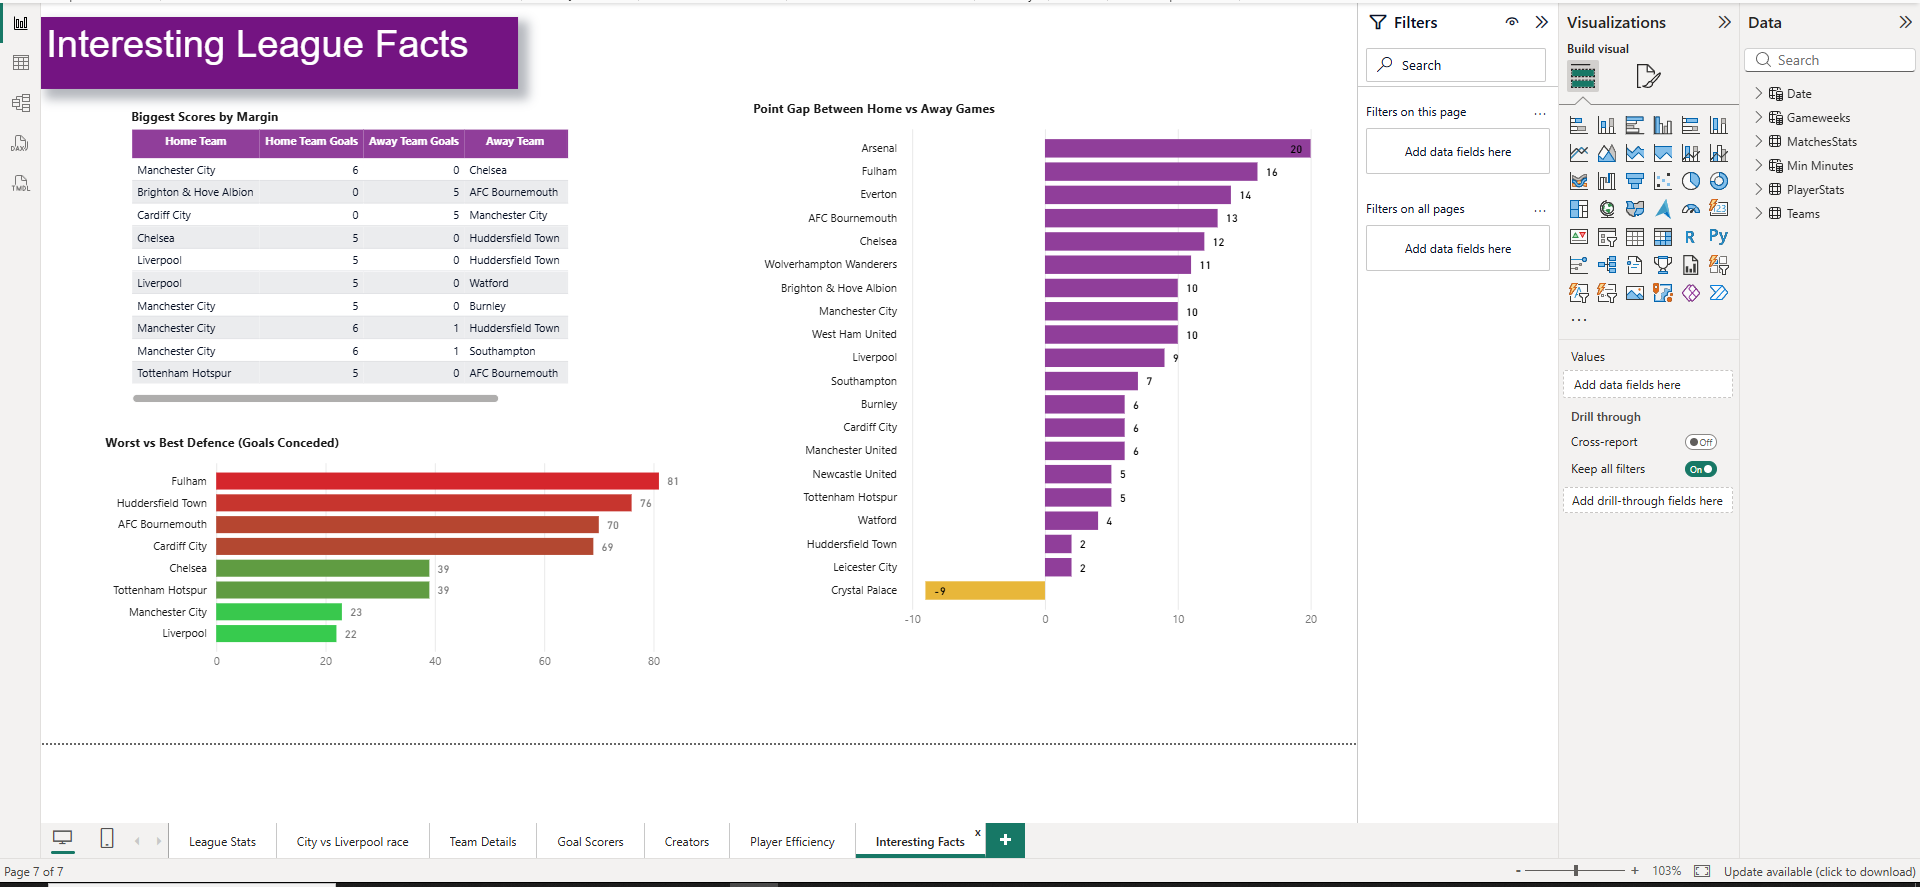

The page's visual inventory and layout, read from the dashboard file:
{"tool":"powerbi","page":{"name":"Interesting Facts","canvas":[1280,720],"ordinal":6},"visuals":[{"type":"clusteredBarChart","title":"Point Gap Between Home vs Away Games","fields":{"Category":["Teams.common_name"],"Y":["MatchesStats.Home Away Gap"]},"box":[687.7,94.3,576.8,523.3],"z":0},{"type":"tableEx","title":"Biggest Scores by Margin","fields":{"Values":["MatchesStats.home_team_name","MatchesStats.home_team_goal_count","MatchesStats.away_team_goal_count","MatchesStats.away_team_name","MatchesStats.Match Margin"]},"box":[82.7,102.1,434.8,291.8],"z":1000},{"type":"clusteredBarChart","title":"Worst vs Best Defence (Goals Conceded)","fields":{"Category":["Teams.common_name"],"Y":["MatchesStats.GA"]},"box":[57.4,419.2,577.8,239.3],"z":2000},{"type":"textbox","box":[0,14,463.9,69.8],"z":3000}]}

Visuals, with their boxes on the page's 1280x720 design canvas (x1, y1, x2, y2). These are canvas units, not pixel positions in the 1920x887 screenshot, which may show the page scaled, cropped or inside an application window:
"Point Gap Between Home vs Away Games" clusteredBarChart: bbox=(688, 94, 1264, 618)
"Biggest Scores by Margin" tableEx: bbox=(83, 102, 518, 394)
"Worst vs Best Defence (Goals Conceded)" clusteredBarChart: bbox=(57, 419, 635, 658)
textbox: bbox=(0, 14, 464, 84)
